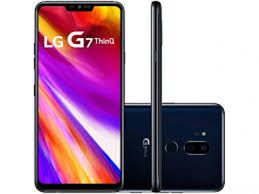lg: (31, 1, 127, 194)
